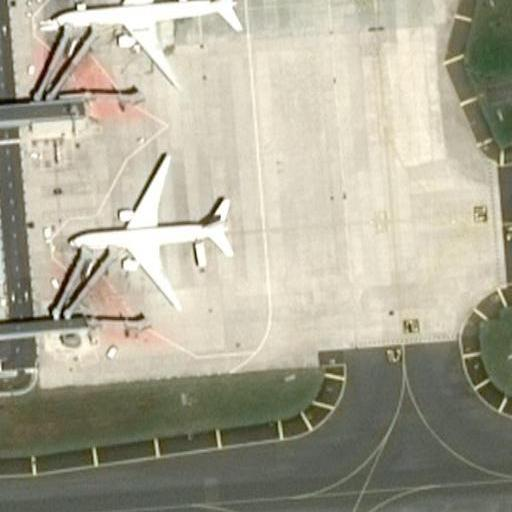Aircraft: (60, 147, 240, 317), (42, 0, 245, 83)
